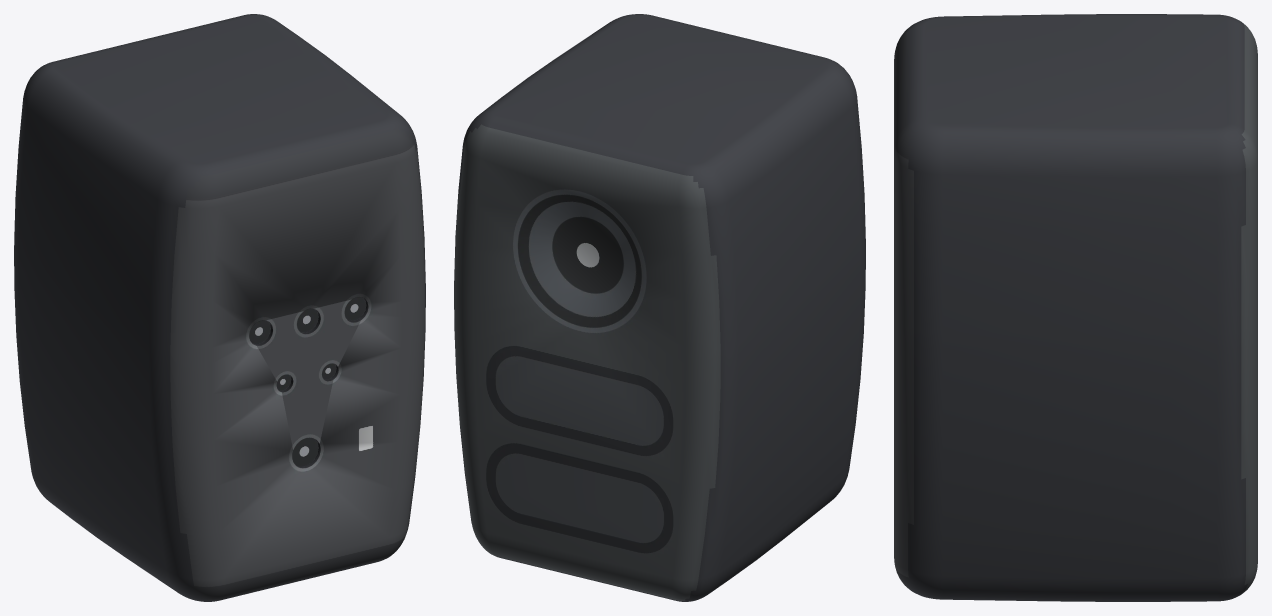
Rendered from genelec-8341a.glb.
3 renders of one model, left to right at view 1: azimuth 30°, elevation 25°; view 2: azimuth 150°, elevation 25°; view 3: azimuth 270°, elevation 25°, orthographic. The views are drawn at different scales.
Parts seen in each view (by area): view 1: genelec-8341a-body; view 2: genelec-8341a-body; view 3: genelec-8341a-body.
Part boxes in pixels (x1=…): genelec-8341a-body: x1=14, y1=14, x2=425, y2=601; genelec-8341a-body: x1=454, y1=14, x2=865, y2=601; genelec-8341a-body: x1=894, y1=14, x2=1257, y2=601.
Size of the model in its own units: 0.237 by 0.351 by 0.243.
Materials: 1 (1 with a texture image).
